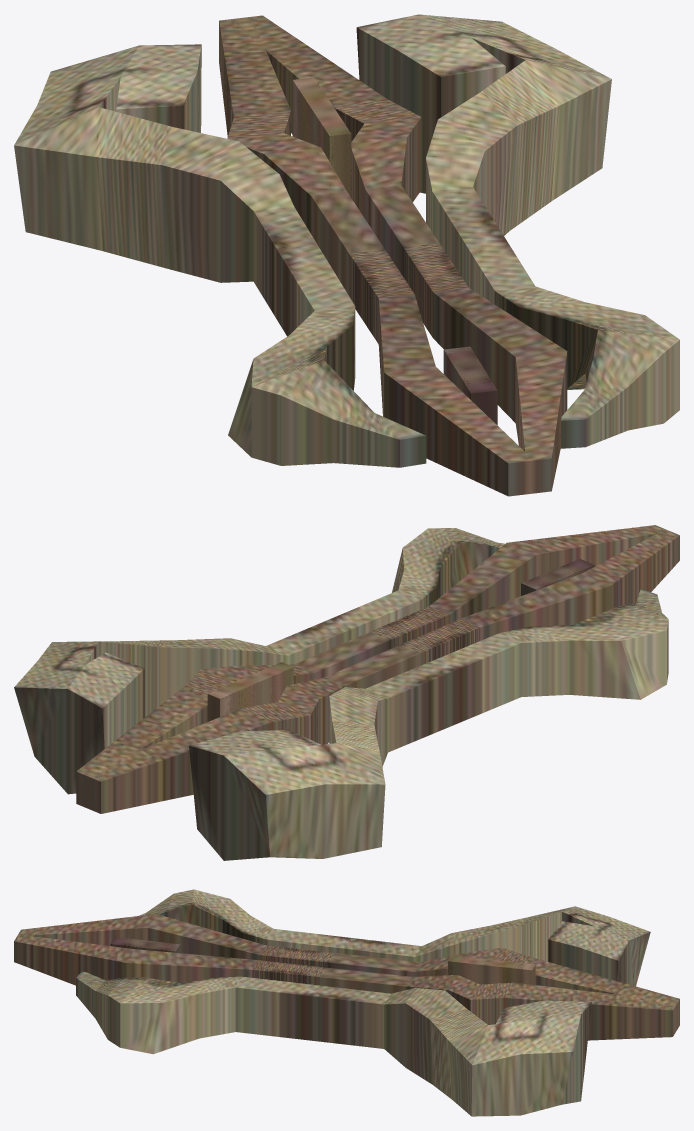
Rendered from Reliquia.obj.
3 views of the same model, one above another, from view 1: azimuth 30°, elevation 25°; view 2: azimuth 150°, elevation 25°; view 3: azimuth 270°, elevation 25° (orthographic). The views are drawn at different scales.
Parts seen in each view (by area): view 1: Cube.003, Cube, Cube.001, Cube.002; view 2: Cube.003, Cube, Cube.001, Cube.002; view 3: Cube.003, Cube, Cube.001, Cube.002.
Part boxes in pixels (x1,y1,x2,y2): Cube.003: (14,14,679,467); Cube: (219,15,567,496); Cube.001: (292,77,351,197); Cube.002: (443,346,497,424); Cube.003: (14,528,668,860); Cube: (76,525,679,813); Cube.001: (207,662,293,721); Cube.002: (521,558,594,595); Cube.003: (76,889,650,1116); Cube: (14,914,679,1040); Cube.001: (448,955,535,984); Cube.002: (110,937,180,952).
Size of the model in its own units: 5.66 by 1.3 by 8.9.
Materials: 1 (1 with a texture image).
